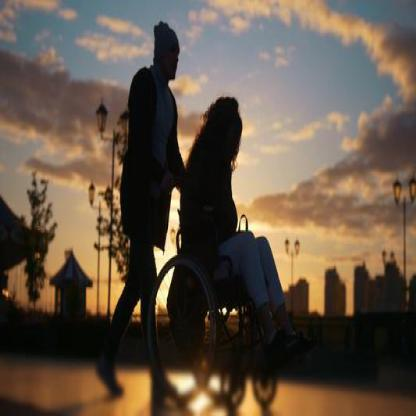wheelchair: (158, 96, 286, 408)
